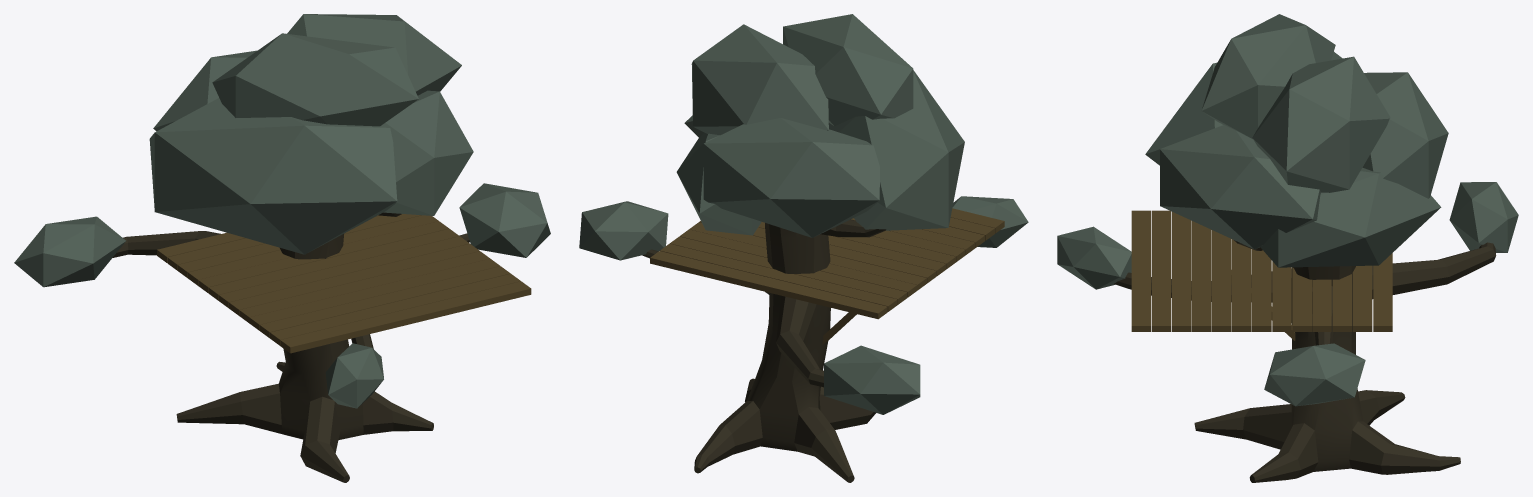
File: TreeStadium.fbx
3 renders of one model, left to right at view 1: azimuth 30°, elevation 25°; view 2: azimuth 150°, elevation 25°; view 3: azimuth 270°, elevation 25°, orthographic. The views are drawn at different scales.
Visible parts, largest first — view 1: polySurface69, polySurface68, polySurface51, polySurface70, polySurface73, polySurface75, polySurface74, pCube48, polySurface76, pCube49, pCube45, pCube54 (+10 smaller); view 2: polySurface68, polySurface71, polySurface69, polySurface73, polySurface51, polySurface75, polySurface74, pCube59, polySurface72, pCube58, pCube57, polySurface76 (+10 smaller); view 3: polySurface68, polySurface70, polySurface73, polySurface72, polySurface51, polySurface71, polySurface74, polySurface75, polySurface76, pCube45, pCube48, pCube49 (+11 smaller).
Boxes of the visible parts, x1,y1,x2,y2 form: polySurface69: [149, 98, 397, 254]; polySurface68: [113, 212, 469, 482]; polySurface51: [212, 33, 418, 126]; polySurface70: [382, 90, 473, 215]; polySurface73: [287, 14, 461, 95]; polySurface75: [14, 216, 125, 287]; polySurface74: [459, 183, 550, 257]; pCube48: [280, 281, 531, 353]; polySurface76: [325, 343, 383, 408]; pCube49: [259, 266, 510, 338]; pCube45: [270, 274, 520, 345]; pCube54: [208, 228, 459, 300]; polySurface68: [642, 219, 886, 482]; polySurface71: [703, 118, 879, 237]; polySurface69: [828, 70, 964, 230]; polySurface73: [691, 24, 828, 135]; polySurface51: [783, 14, 913, 126]; polySurface75: [824, 345, 920, 414]; polySurface74: [579, 201, 668, 260]; pCube59: [650, 251, 887, 319]; polySurface72: [676, 132, 761, 235]; pCube58: [660, 243, 897, 311]; pCube57: [670, 236, 907, 304]; polySurface76: [952, 196, 1028, 247]; polySurface68: [1114, 240, 1496, 482]; polySurface70: [1160, 125, 1320, 249]; polySurface73: [1252, 56, 1390, 192]; polySurface72: [1260, 167, 1441, 267]; polySurface51: [1201, 14, 1335, 138]; polySurface71: [1362, 72, 1448, 198]; polySurface74: [1264, 343, 1365, 406]; polySurface75: [1449, 182, 1518, 252]; polySurface76: [1057, 226, 1131, 289]; pCube45: [1151, 210, 1171, 331]; pCube48: [1131, 210, 1150, 331]; pCube49: [1172, 212, 1191, 331].
Bounding box in the file's own units: 35.72 × 32.5 × 33.1.
